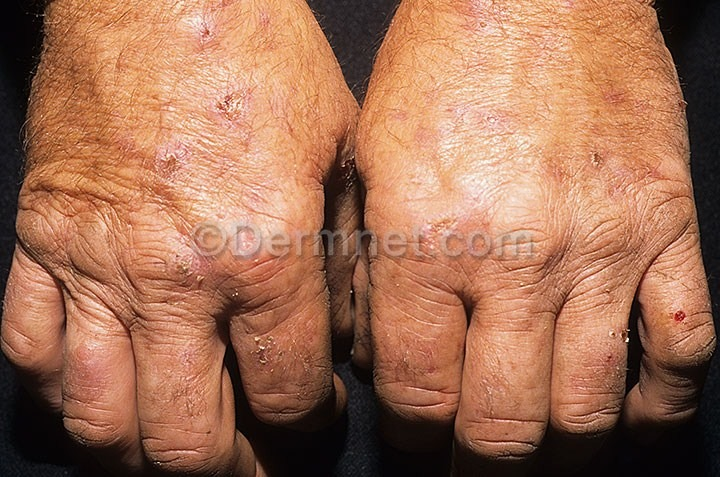Melasma: (429, 0, 652, 203), (139, 256, 298, 425), (149, 3, 275, 203), (583, 263, 703, 389)
